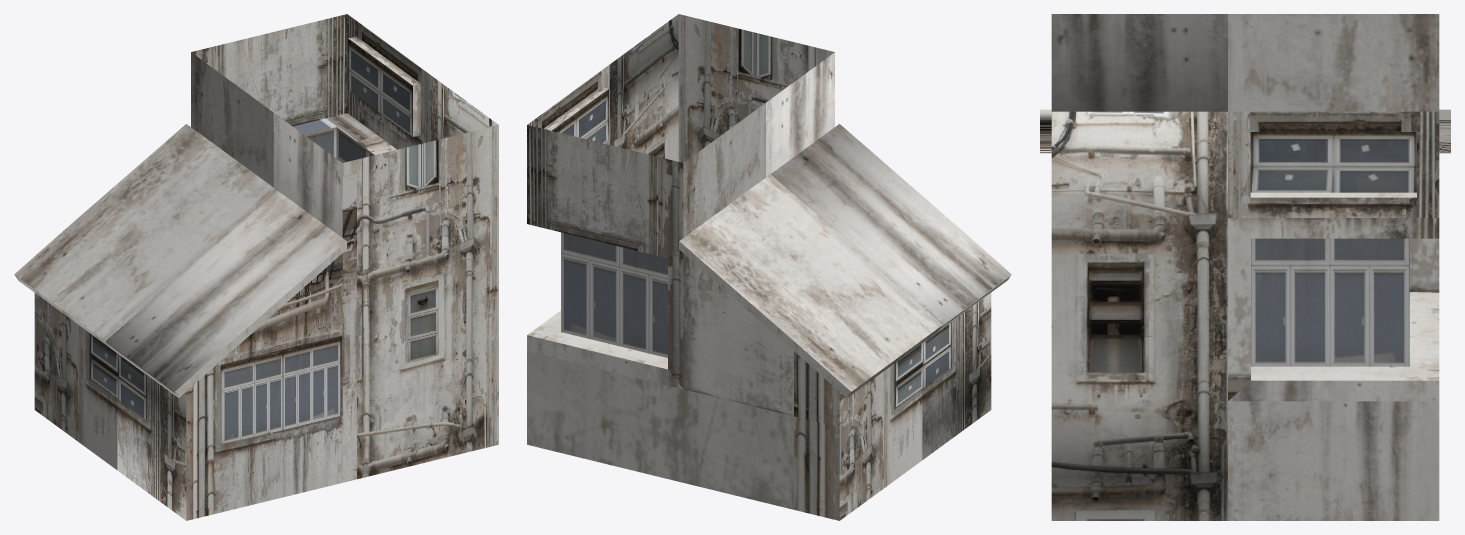
File: PS1whiteBuilding.fbx
3 renders of one model, left to right at view 1: azimuth 30°, elevation 25°; view 2: azimuth 150°, elevation 25°; view 3: azimuth 270°, elevation 25°, orthographic. The views are drawn at different scales.
Visible parts, largest first — view 1: Building2; view 2: Building2; view 3: Building2.
Part boxes in pixels (bbox=[...]): Building2: bbox=[14, 14, 498, 520]; Building2: bbox=[527, 14, 1011, 520]; Building2: bbox=[1040, 14, 1450, 520].
Bounding box in the file's own units: 460 × 427 × 389.
